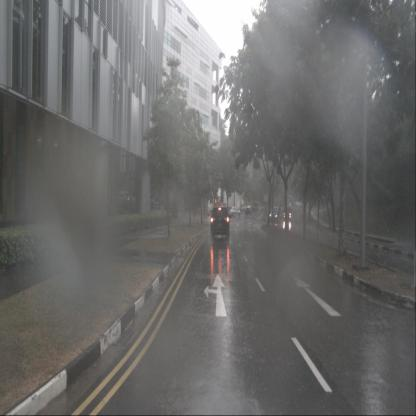vehicle-car: (210, 207, 230, 238), (145, 200, 164, 213), (269, 206, 281, 222), (226, 207, 241, 217), (284, 206, 292, 220), (293, 201, 303, 208), (245, 206, 252, 214)
vehicle-truck: (115, 191, 129, 203), (251, 202, 259, 212)
